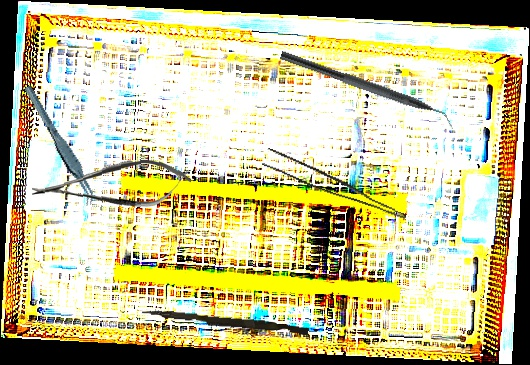Chopper: (275, 50, 459, 133)
Micro Scissor: (30, 155, 193, 214)
Pusher: (140, 308, 310, 336)
Tissue Forceps: (260, 147, 413, 220), (23, 79, 98, 211)
